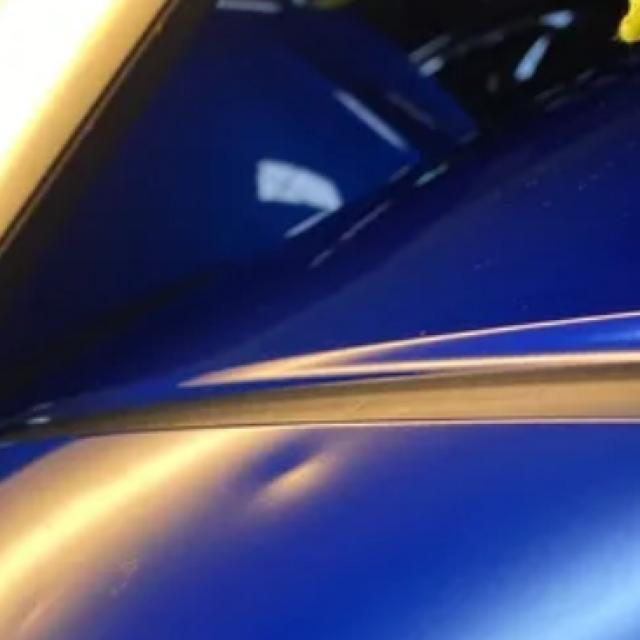dents: (223, 432, 417, 522), (9, 572, 122, 640)
